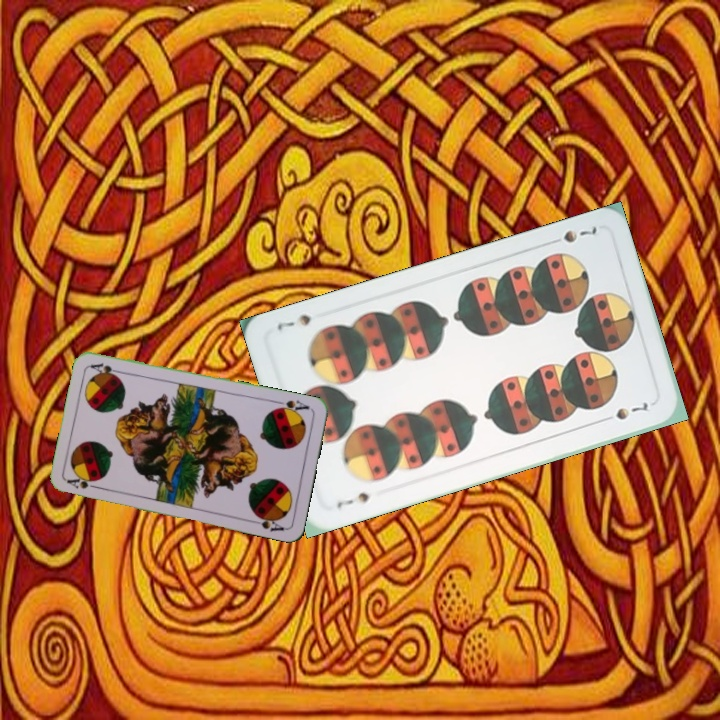S7: (544, 223, 600, 247), (332, 488, 371, 513)
SA: (271, 396, 312, 417), (63, 473, 104, 492)
